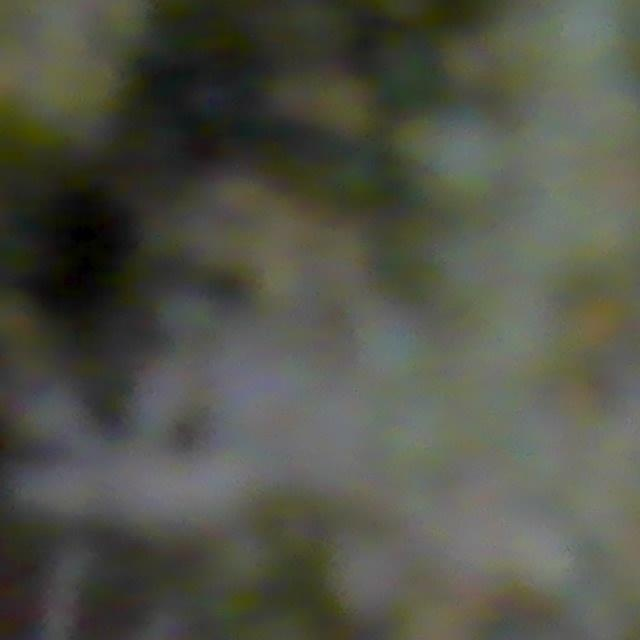SeaGrape: (404, 105, 514, 206)
